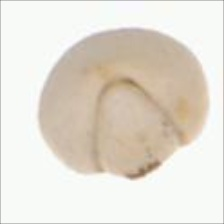L5: (91, 76, 188, 185), (60, 26, 136, 53)
L6: (36, 25, 212, 182)
